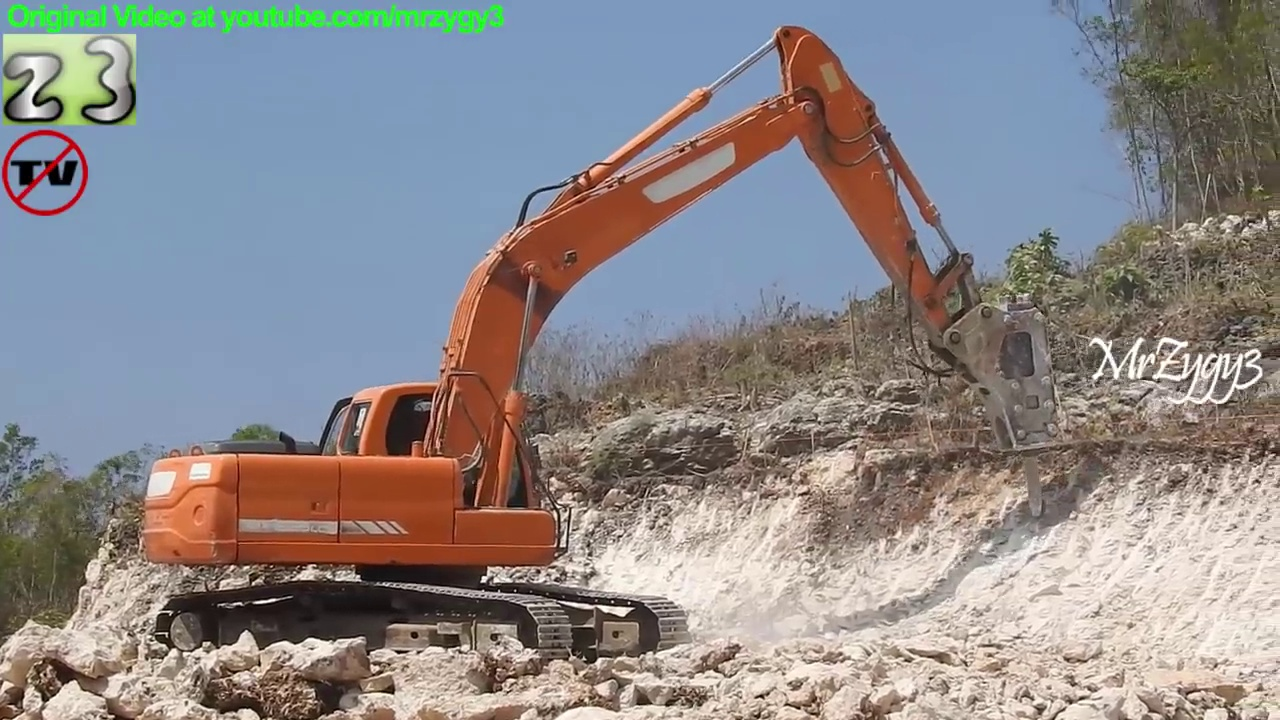excavator breaker: (137, 20, 1067, 679)
